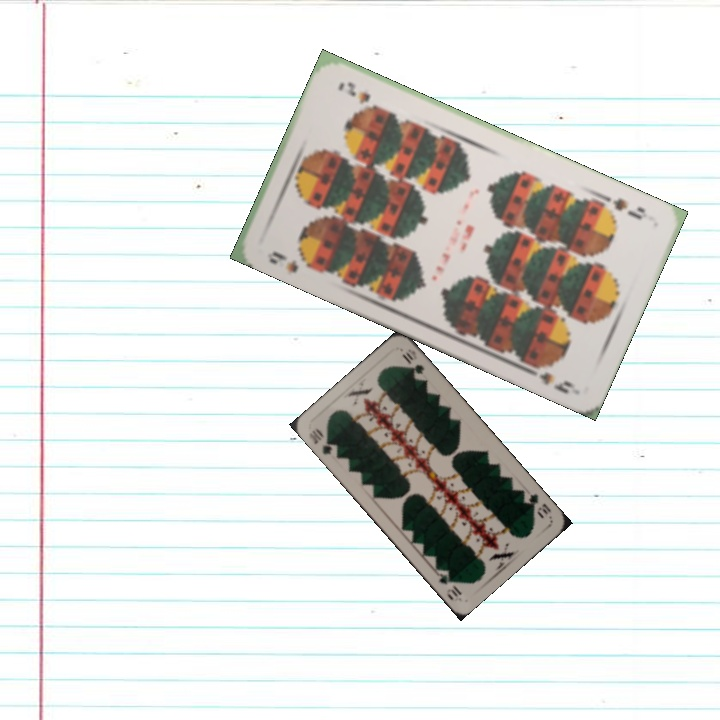G10: (305, 424, 341, 457), (523, 489, 554, 521)
S9: (264, 247, 316, 276), (609, 193, 650, 223)
